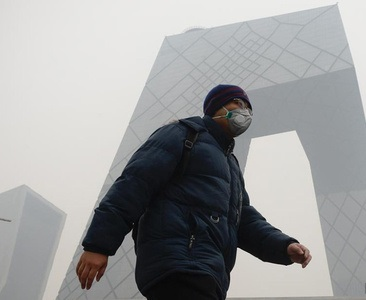face_mask: (216, 99, 249, 133)
